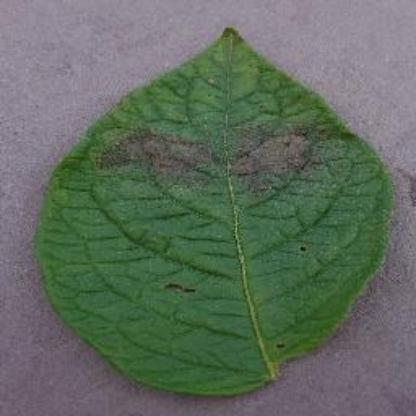Late-Blight: (27, 21, 398, 400)
